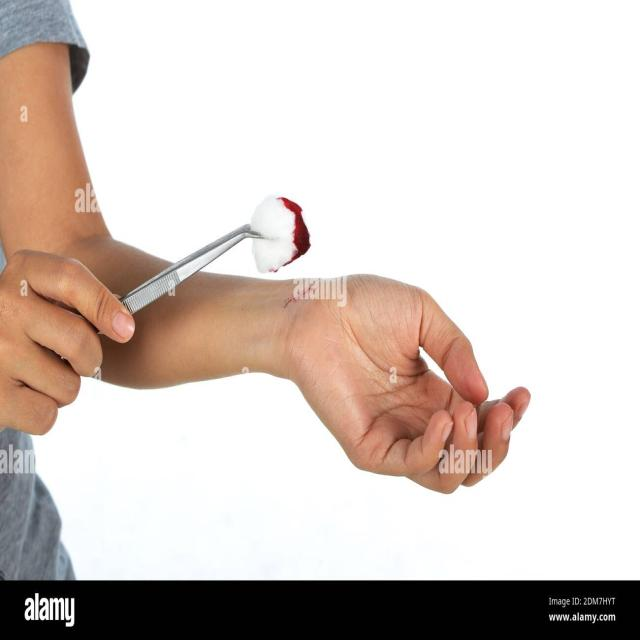B3: (245, 191, 323, 275)
